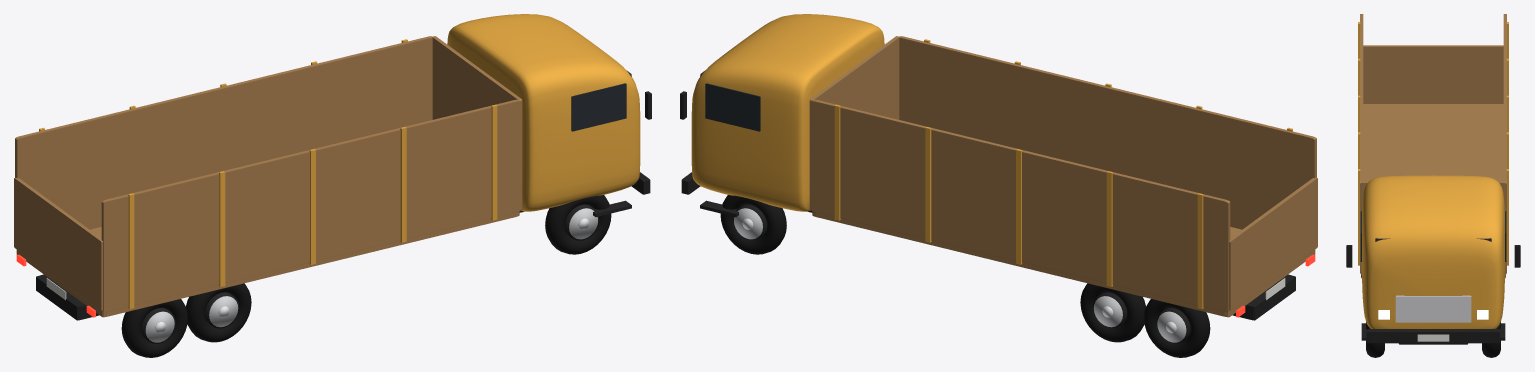
Rendered from fleet_lorry.glb.
The picture shows the model from 3 angles, left to right: view 1: azimuth 30°, elevation 25°; view 2: azimuth 150°, elevation 25°; view 3: azimuth 270°, elevation 25°; orthographic projection. The views are drawn at different scales.
Parts seen in each view (by area): view 1: Body, Cap.005, Cap.003, Cap.001, Glass; view 2: Body, Cap.004, Cap.002, Cap, Glass; view 3: Body, Cap, Cap.001, Glass, Headlight.
Boxes of the visible parts, x1=… form: Body: x1=14, y1=14, x2=651, y2=320; Cap.005: x1=121, y1=299, x2=187, y2=357; Cap.003: x1=186, y1=283, x2=251, y2=342; Cap.001: x1=545, y1=195, x2=611, y2=254; Glass: x1=571, y1=71, x2=631, y2=131; Body: x1=680, y1=14, x2=1317, y2=320; Cap.004: x1=1144, y1=299, x2=1210, y2=357; Cap.002: x1=1080, y1=283, x2=1145, y2=342; Cap: x1=720, y1=195, x2=786, y2=254; Glass: x1=700, y1=71, x2=760, y2=131; Body: x1=1346, y1=14, x2=1520, y2=344; Cap: x1=1482, y1=322, x2=1501, y2=357; Cap.001: x1=1365, y1=322, x2=1384, y2=357; Glass: x1=1360, y1=211, x2=1506, y2=261; Headlight: x1=1378, y1=310, x2=1488, y2=319.
Bounding box in the file's own units: 9.2 × 3.04 × 3.
